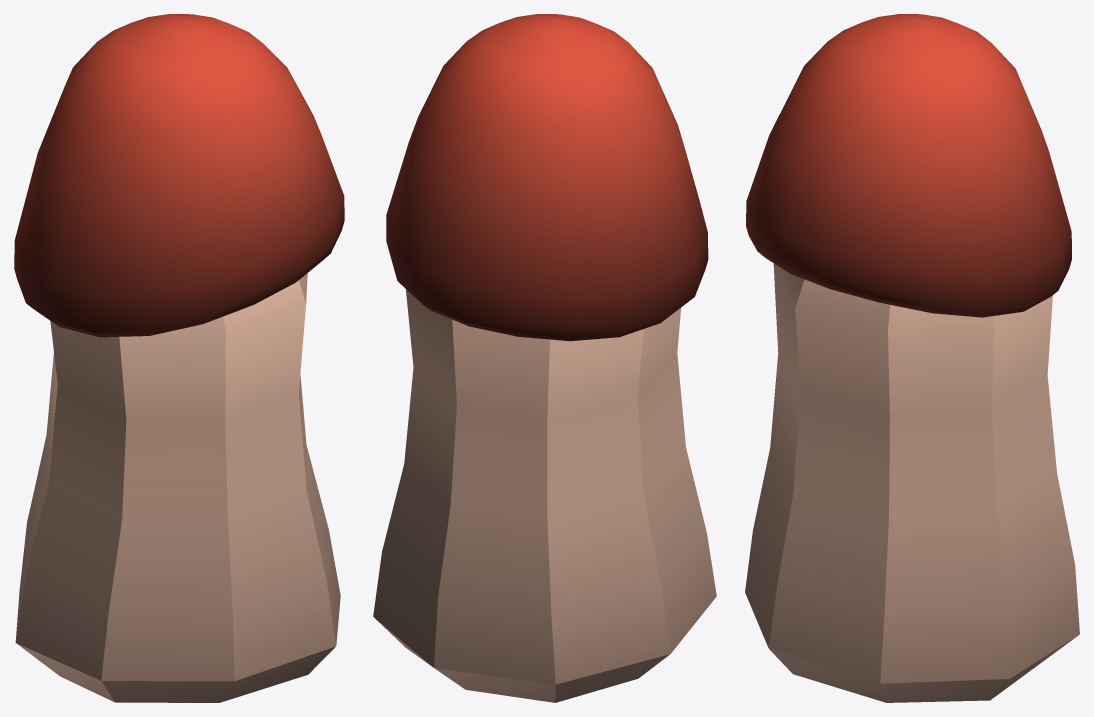
The model's file is mushroom4.fbx.
3 renders of one model, left to right at view 1: azimuth 30°, elevation 25°; view 2: azimuth 150°, elevation 25°; view 3: azimuth 270°, elevation 25°, orthographic. The views are drawn at different scales.
Visible parts, largest first — view 1: mushroom10; view 2: mushroom10; view 3: mushroom10.
Part boxes in pixels (x1,y1,x2,y2): mushroom10: (14, 14, 344, 702); mushroom10: (373, 14, 716, 702); mushroom10: (745, 14, 1079, 702).
Bounding box in the file's own units: 13.16 × 27.84 × 13.25.
